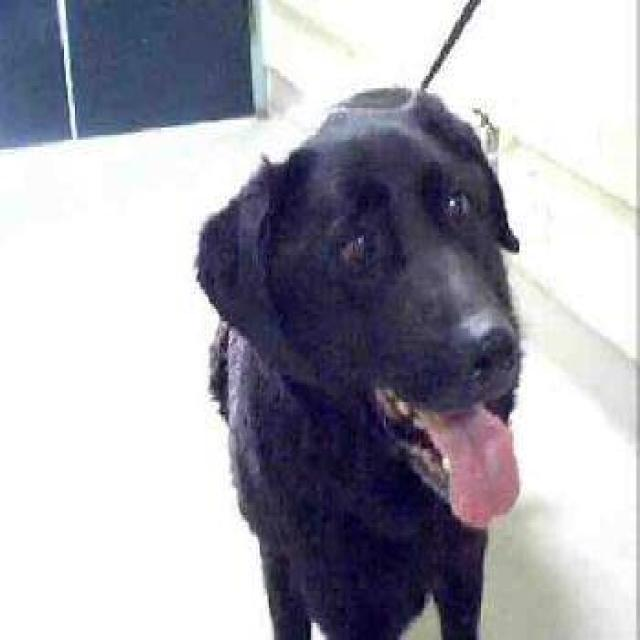dog: (192, 83, 525, 638)
